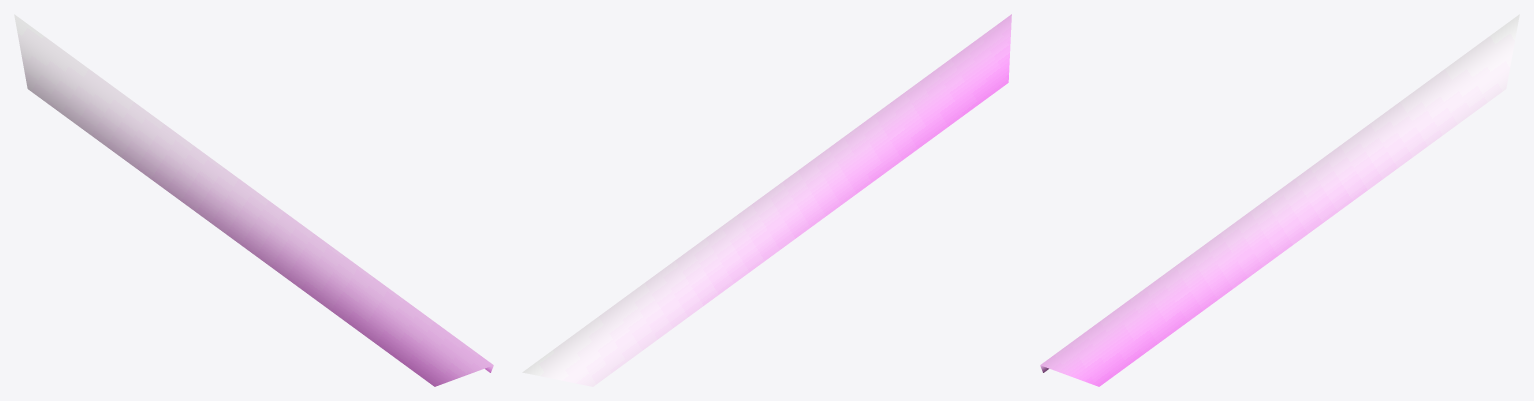
The picture shows the model from 3 angles, left to right: view 1: azimuth 30°, elevation 25°; view 2: azimuth 150°, elevation 25°; view 3: azimuth 330°, elevation 25°; orthographic projection. The views are drawn at different scales.
Visible parts, largest first — view 1: cfe95b75; view 2: cfe95b75; view 3: cfe95b75.
Part boxes in pixels (x1,y1,x2,y2): cfe95b75: [14, 14, 493, 386]; cfe95b75: [522, 14, 1011, 386]; cfe95b75: [1040, 14, 1519, 386].
Size of the model in its own units: 0.5836 by 0.3758 by 8.66.
Materials: 1 (1 with a texture image).
